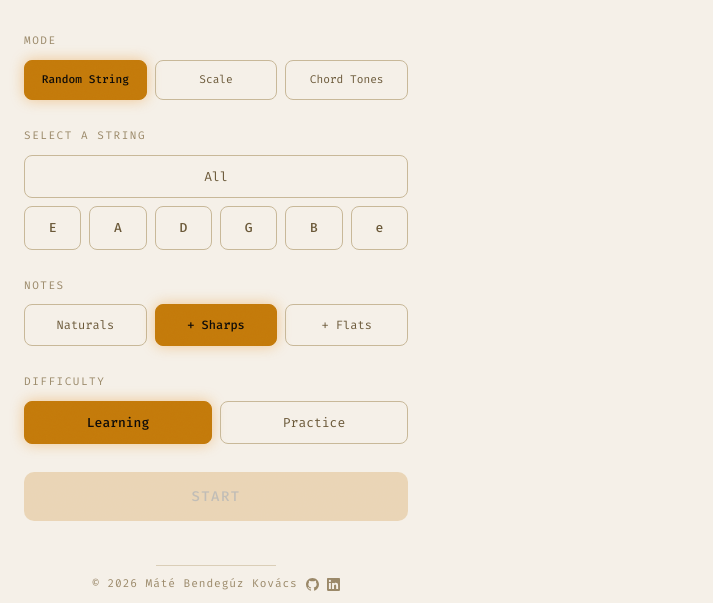
Scenario: ModeSelector — Start button in Scale mode › is enabled when both key and scale are selected
Click the button "Scale": x=216, y=80 [155,60,277,100]
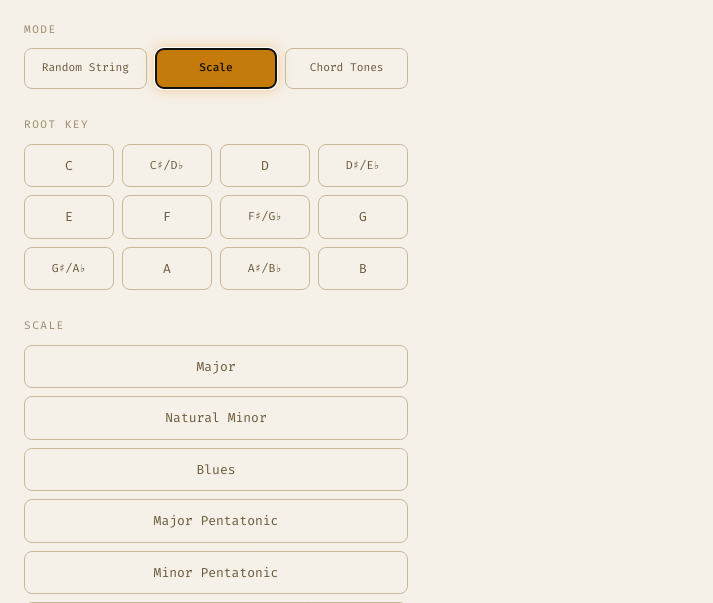
Click the button "G": x=363, y=217 [318,195,408,239]
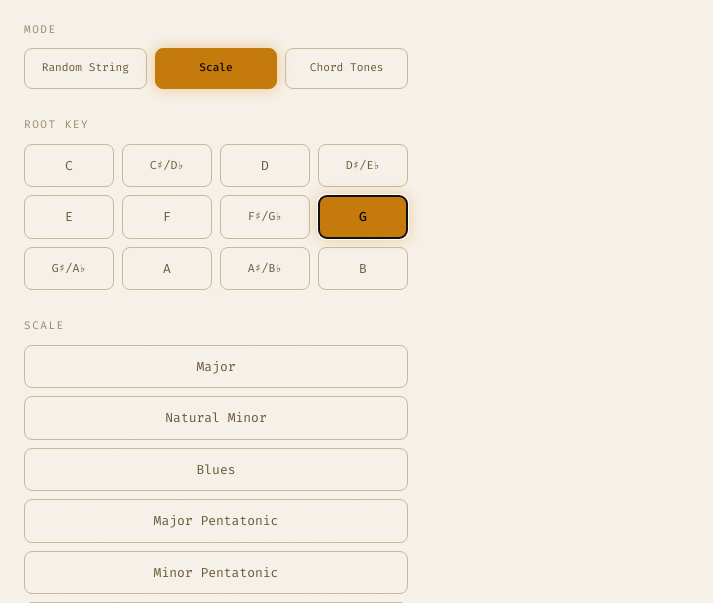
Click the button "Blues": x=216, y=469 [24,448,408,491]
(page scrolled)
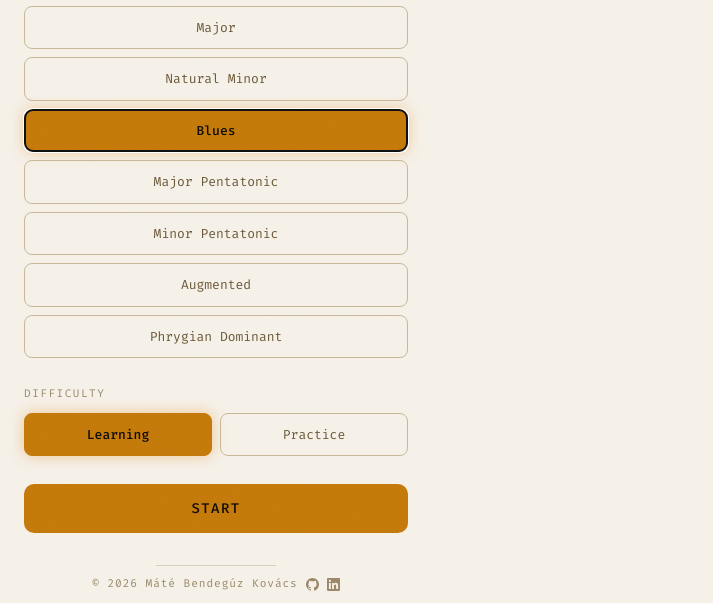
Expected: the button "Start" is enabled, [24,484,408,533]
